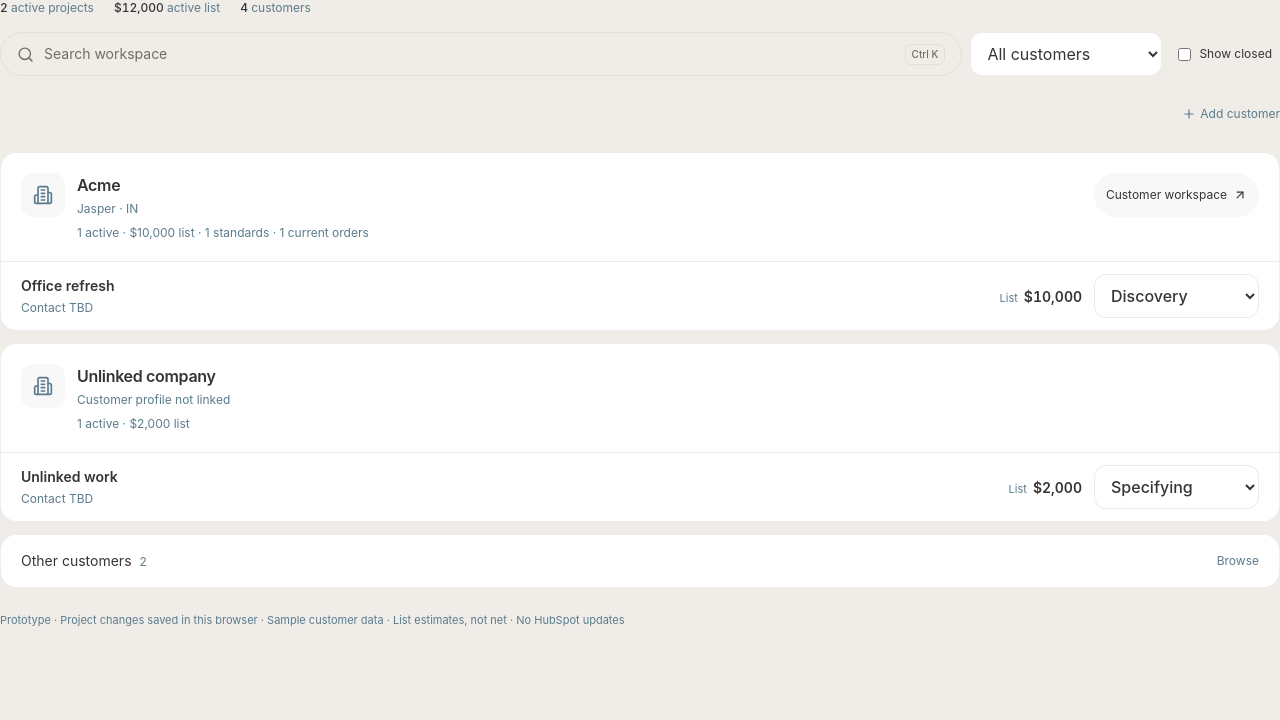
Test: ProjectsWorkspace › shows customer context and excludes closed projects by default
Expected: the text "$12,000" is shown, [114, 0, 164, 15]
Expected: the element named "Acme projects" shows "1 standards · 1 current orders", [195, 225, 369, 240]
What coordinates should you click on to do the following:
click the checkbox labelled "Show closed"
I would click on:
 (1185, 54)
Its box is [1178, 48, 1191, 60].
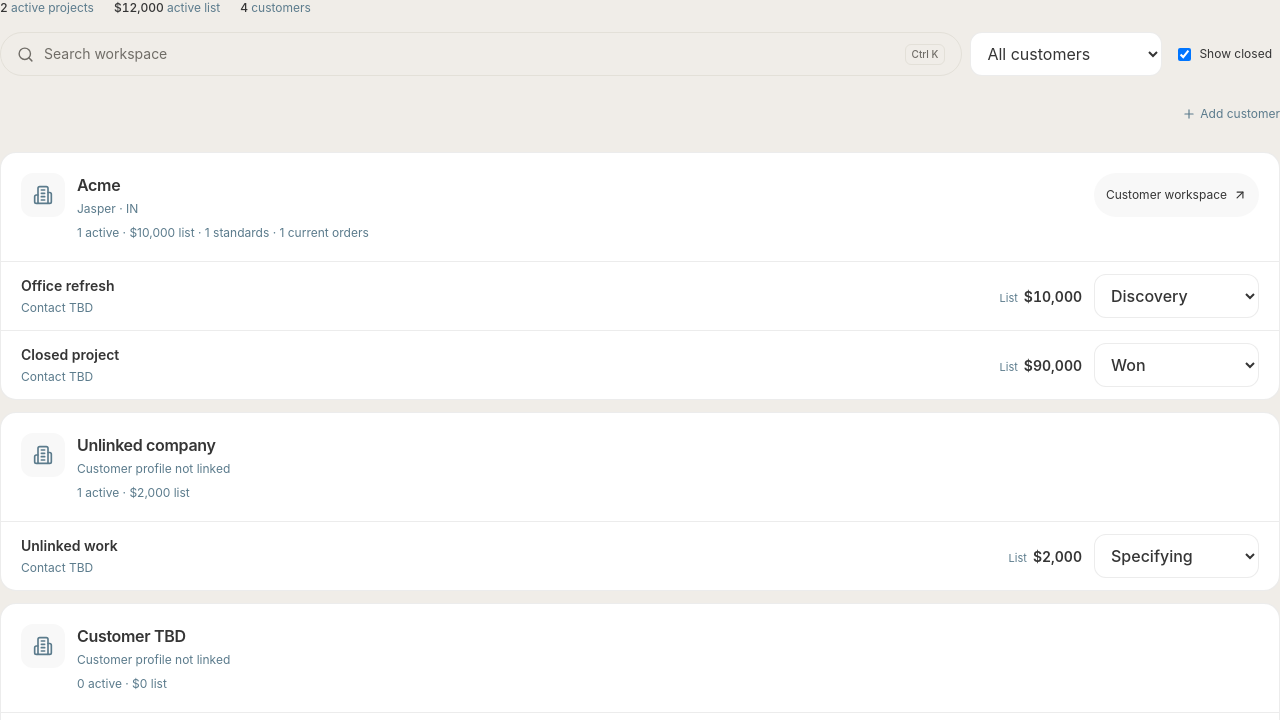
Result: the button "Closed project Contact TBD" is shown at [21, 343, 988, 387]
